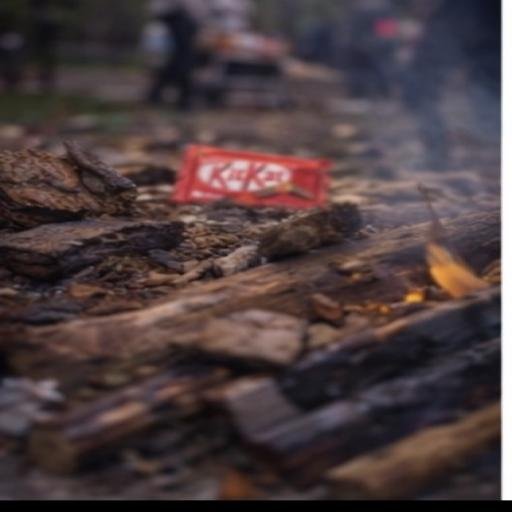kitkat: (121, 88, 386, 246)
